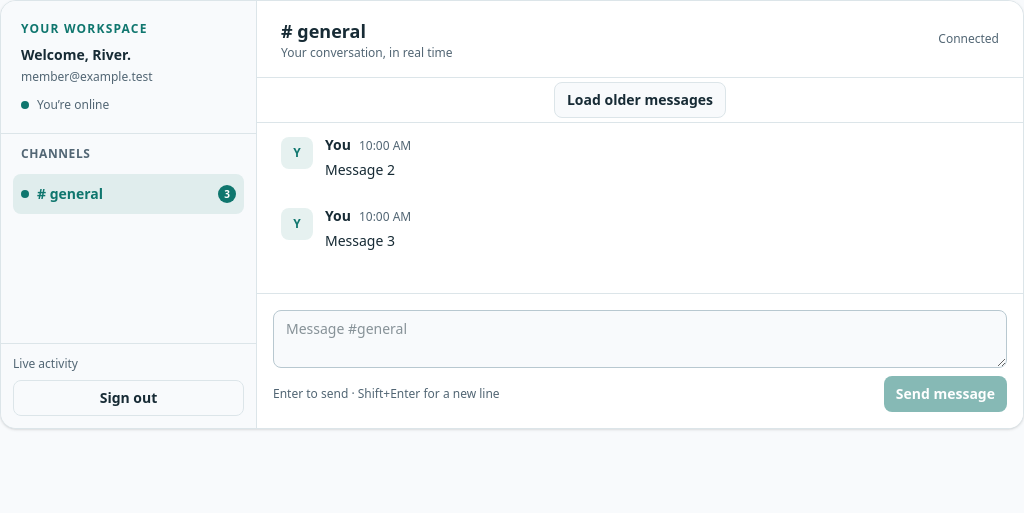
Test case: chat screen › uses the REST history cursor when loading older messages
Click the button "Load older messages".
click(640, 100)  # box [554,82,726,118]
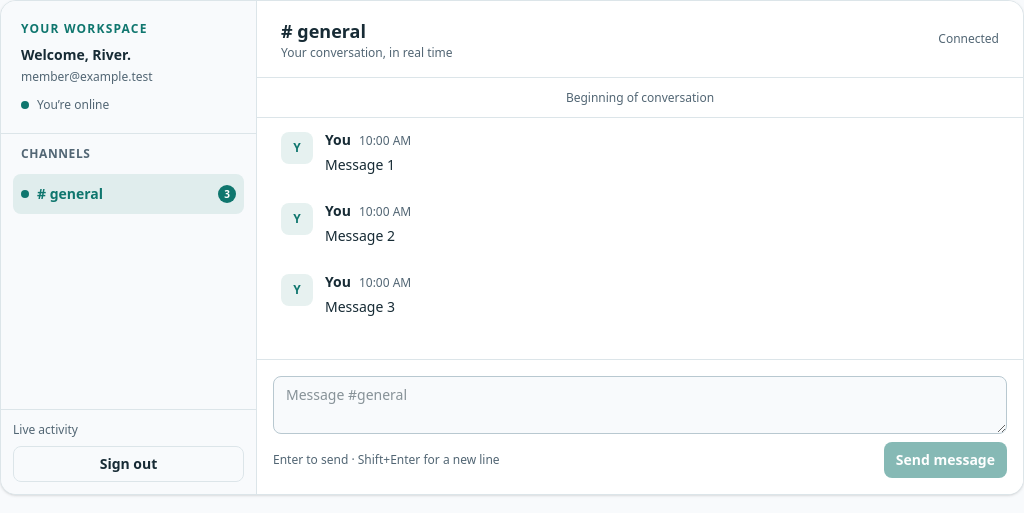
Expected: the text "Message 1" is shown, [325,155,395,174]
